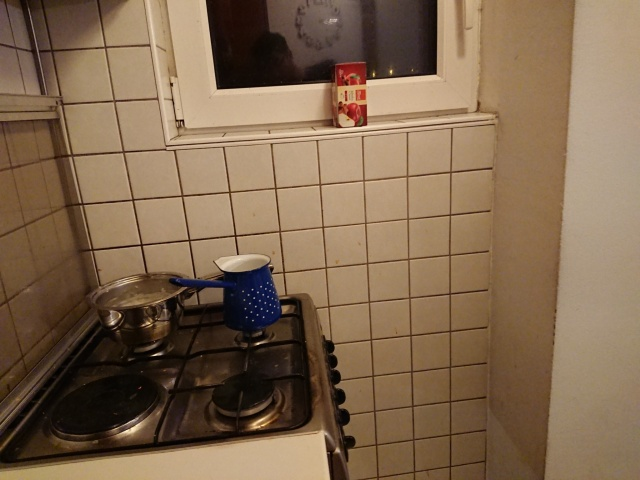Franck Apple Cinnamon Tea 60g: (328, 59, 370, 130)
